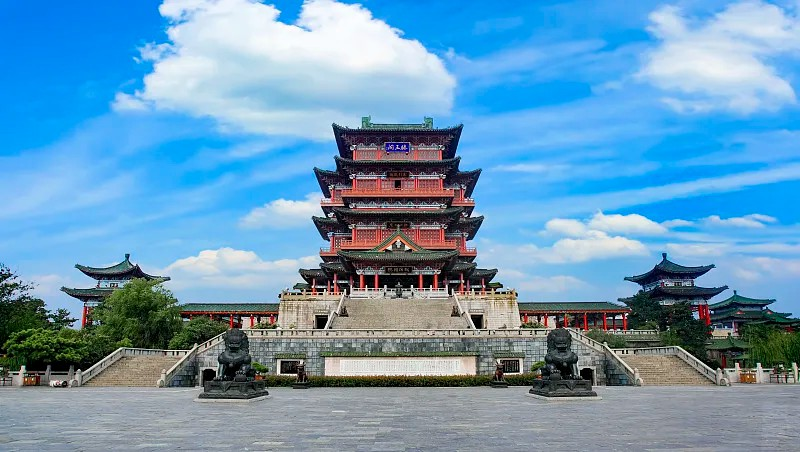Teng: (293, 117, 503, 295)
